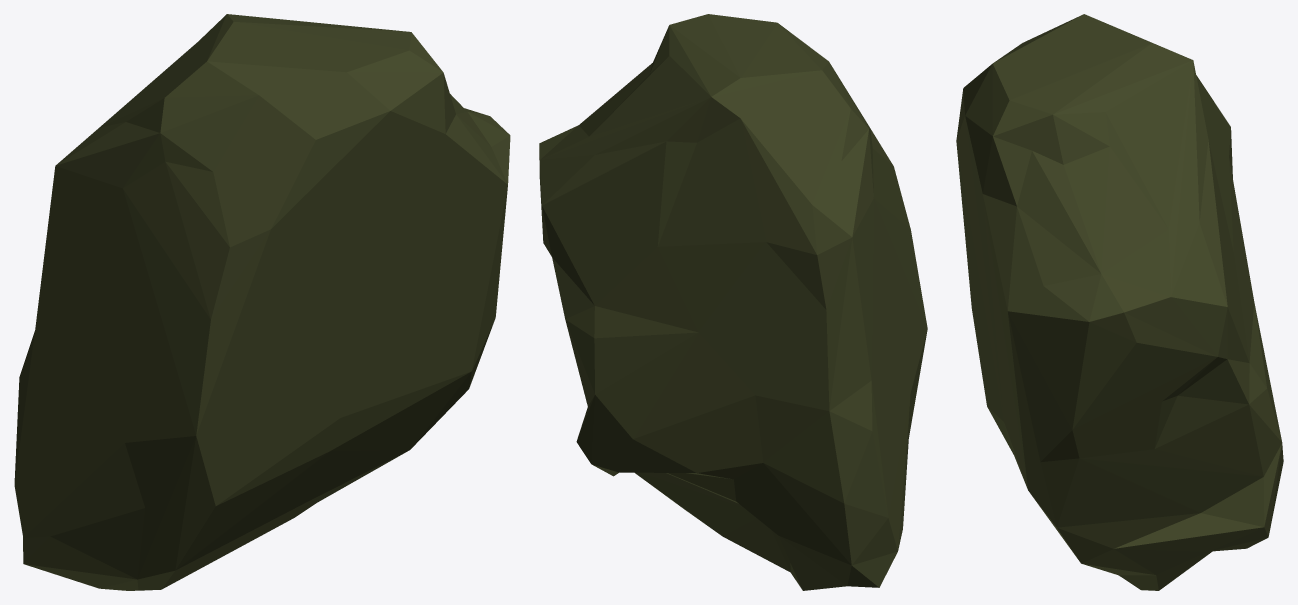
The model's file is SM_small_rock_03.fbx.
3 views of the same model, side by side, from view 1: azimuth 30°, elevation 25°; view 2: azimuth 150°, elevation 25°; view 3: azimuth 270°, elevation 25° (orthographic). The views are drawn at different scales.
Parts seen in each view (by area): view 1: small_rock_03; view 2: small_rock_03; view 3: small_rock_03.
Part boxes in pixels (left/top/right/bottom): small_rock_03: left=14, top=14, right=510, bottom=590; small_rock_03: left=539, top=14, right=927, bottom=590; small_rock_03: left=956, top=14, right=1283, bottom=590.
Bounding box in the file's own units: 12.61 × 14.9 × 7.89.
